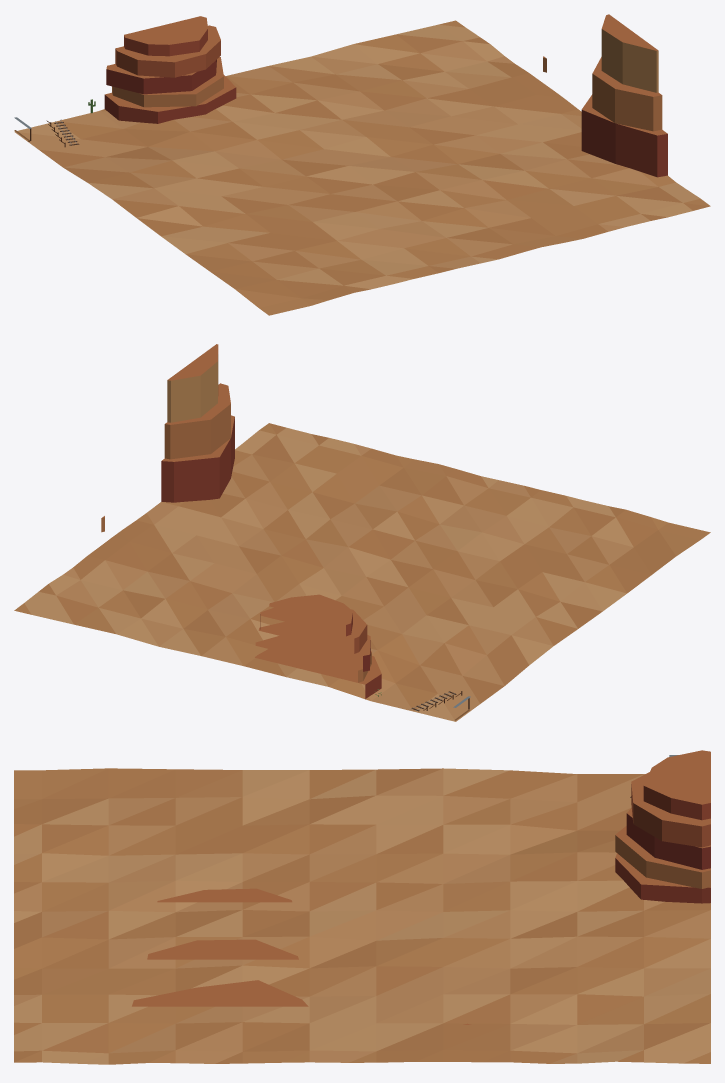
3 renders of one model, top to bottom at view 1: azimuth 30°, elevation 25°; view 2: azimuth 150°, elevation 25°; view 3: azimuth 270°, elevation 25°, orthographic. The views are drawn at different scales.
Parts seen in each view (by area): view 1: baked; view 2: baked; view 3: baked.
Boxes of the visible parts, x1=… form: baked: x1=14, y1=14, x2=710, y2=315; baked: x1=14, y1=344, x2=710, y2=721; baked: x1=14, y1=750, x2=710, y2=1064.
Size of the model in its own units: 125 by 32.92 by 125.
